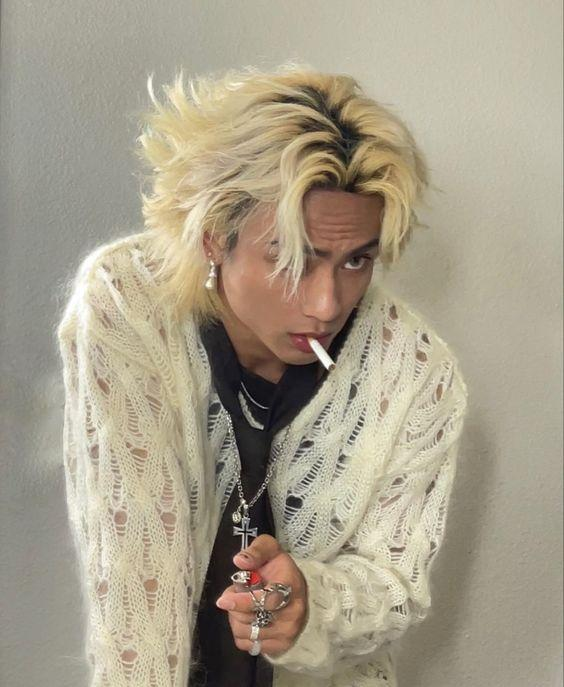cigarette: (306, 336, 336, 371)
